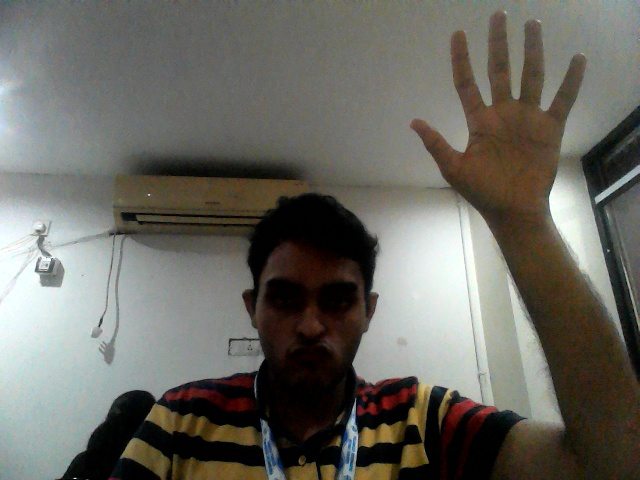palm: (408, 7, 592, 222)
